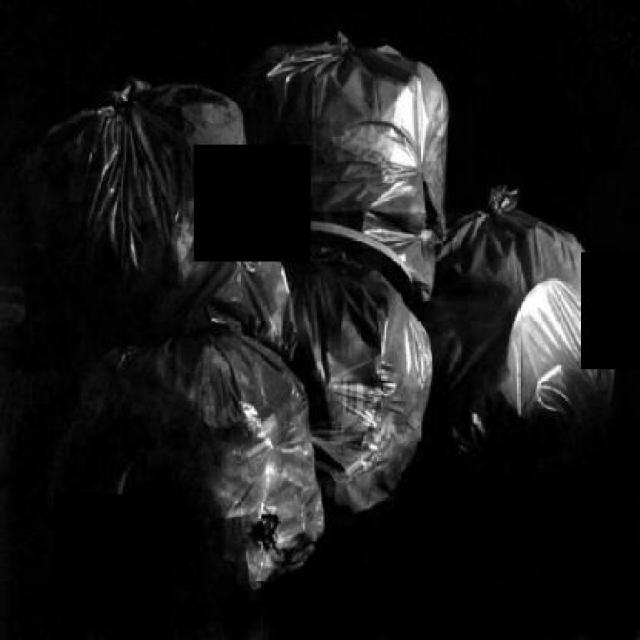plastic bag: (14, 34, 617, 591)
